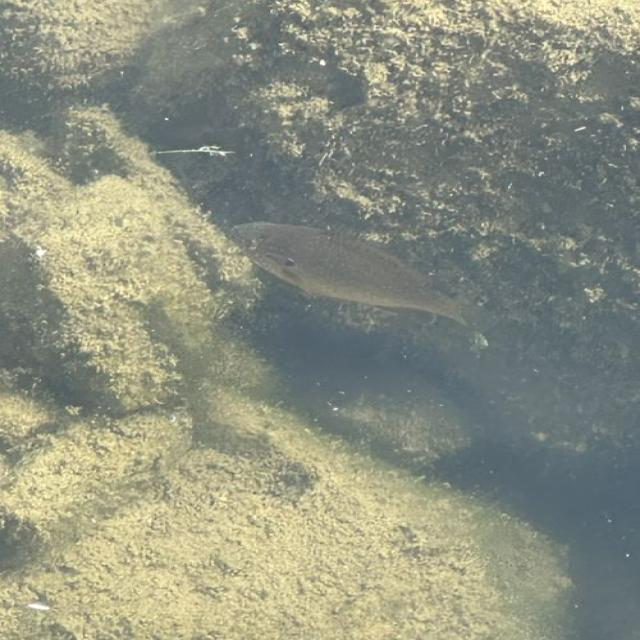Gunes Levregi: (232, 222, 517, 351)
